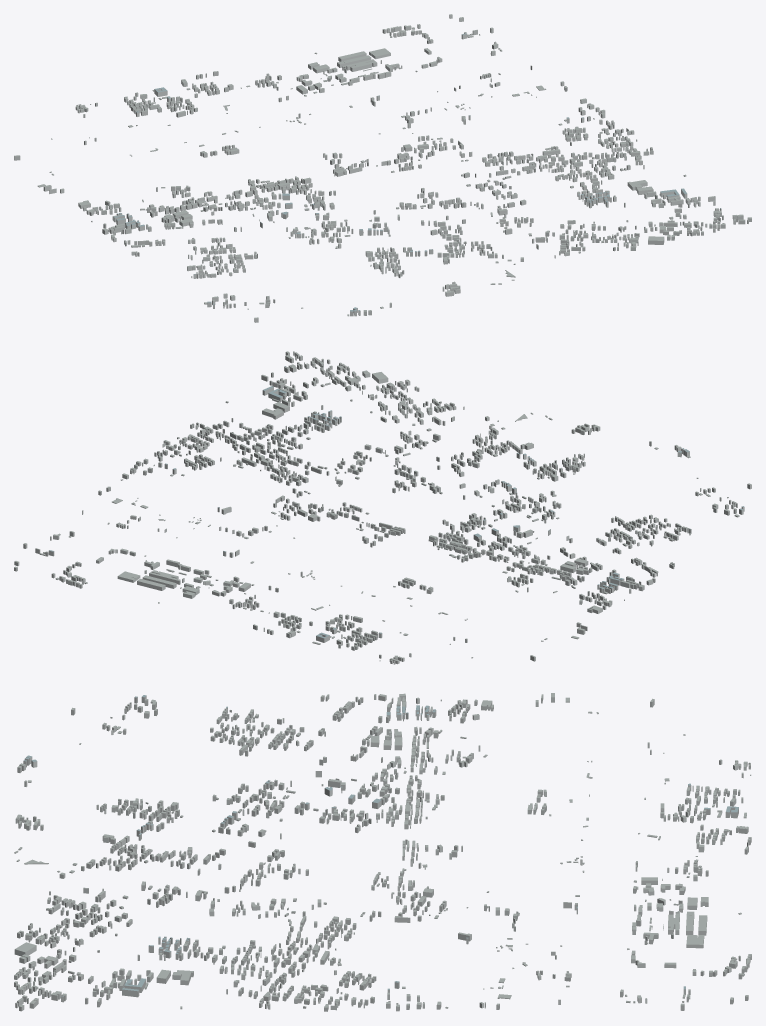
File: far.glb
3 renders of one model, top to bottom at view 1: azimuth 30°, elevation 25°; view 2: azimuth 150°, elevation 25°; view 3: azimuth 270°, elevation 25°, orthographic. The views are drawn at different scales.
Bounding box in the file's own units: 2112 × 21.8 × 2102.
